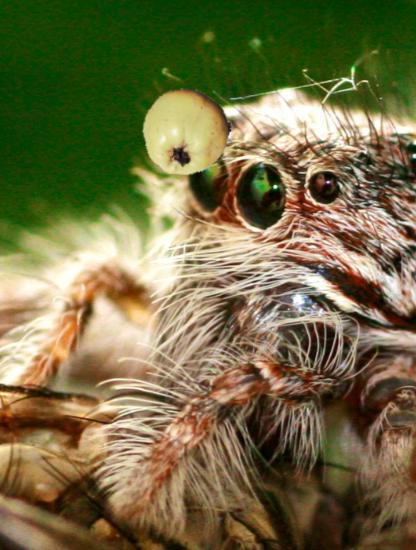Quince: (141, 86, 231, 176)
